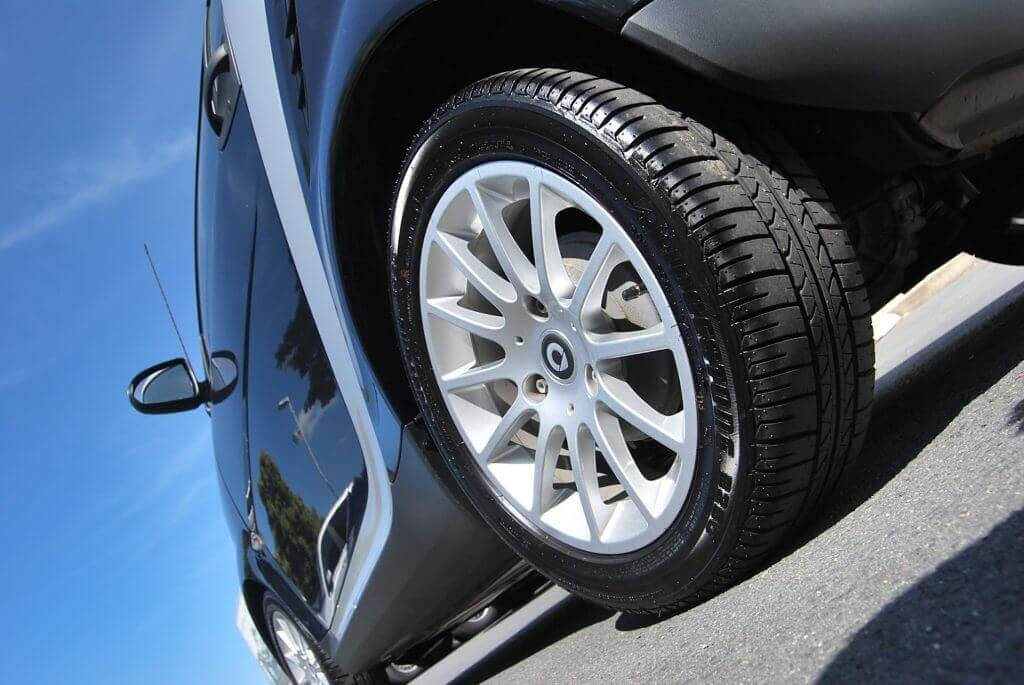tire: (370, 61, 883, 621), (256, 589, 360, 685)
